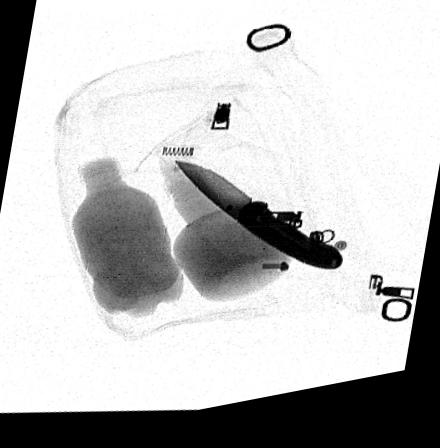Knife: (173, 166, 344, 283)
